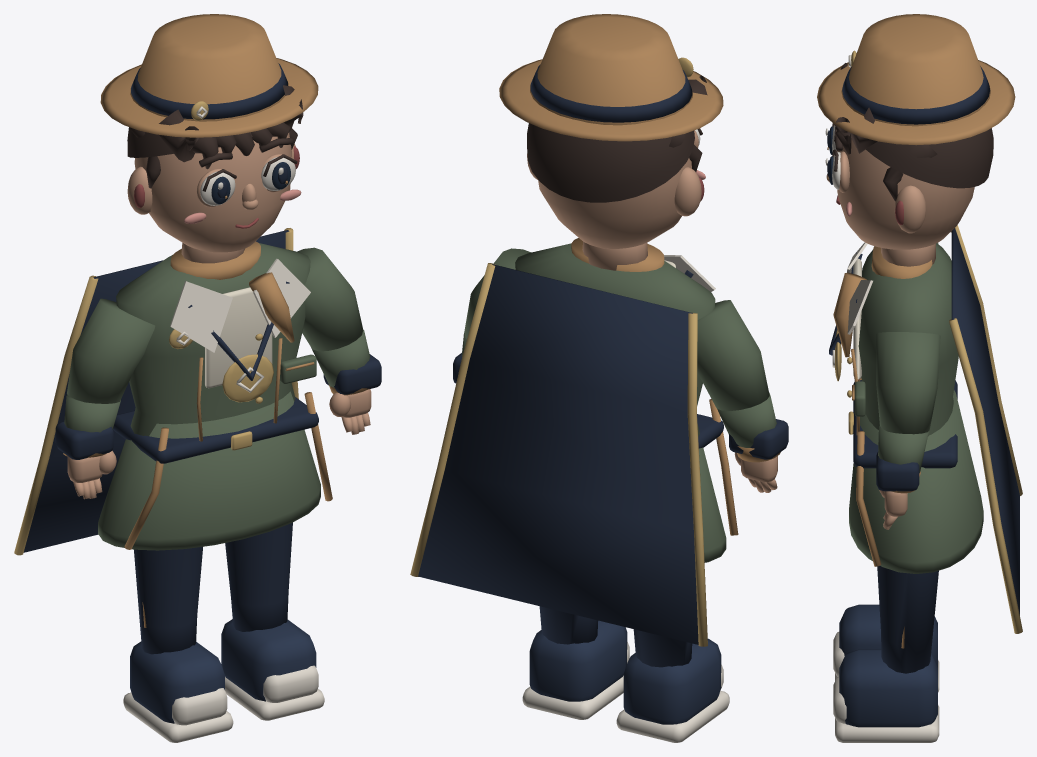
Rendered from npc_survivalridge_lieutenant_1.glb.
The picture shows the model from 3 angles, left to right: view 1: azimuth 30°, elevation 25°; view 2: azimuth 150°, elevation 25°; view 3: azimuth 270°, elevation 25°; orthographic projection. The views are drawn at different scales.
Parts seen in each view (by area): view 1: figure.072; view 2: figure.072; view 3: figure.072.
Boxes of the visible parts, x1,y1,x2,y2 form: figure.072: (14,14,381,742); figure.072: (410,14,788,742); figure.072: (817,14,1022,742).
Bounding box in the file's own units: 0.8391 × 1.72 × 0.4771.
